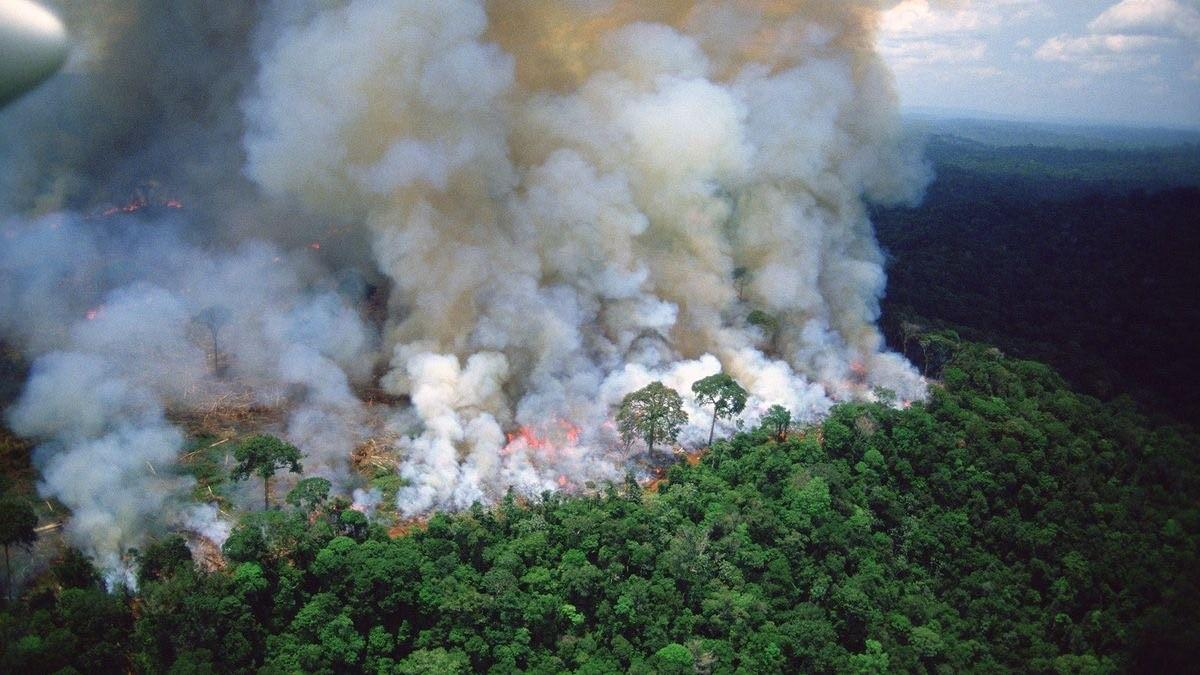fire: (500, 416, 565, 460), (643, 468, 665, 491), (845, 354, 867, 375)
smoke: (514, 0, 929, 442), (223, 259, 400, 524), (19, 349, 163, 605), (392, 344, 484, 524), (181, 489, 247, 562)
